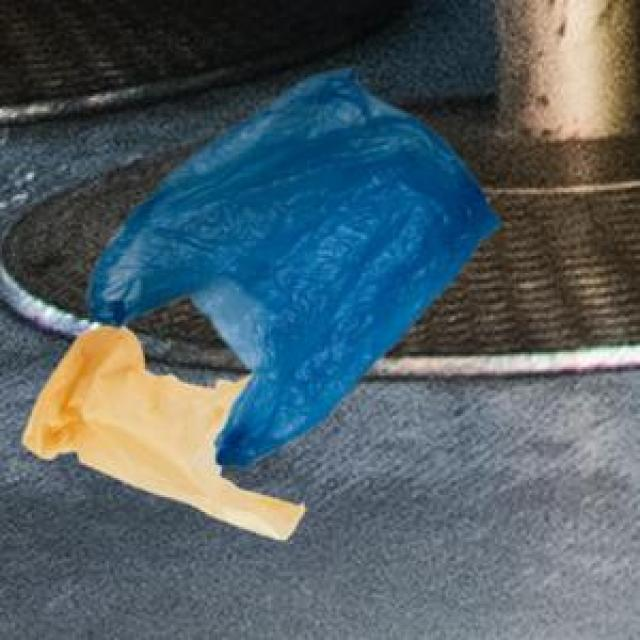waste: (22, 69, 499, 539)
